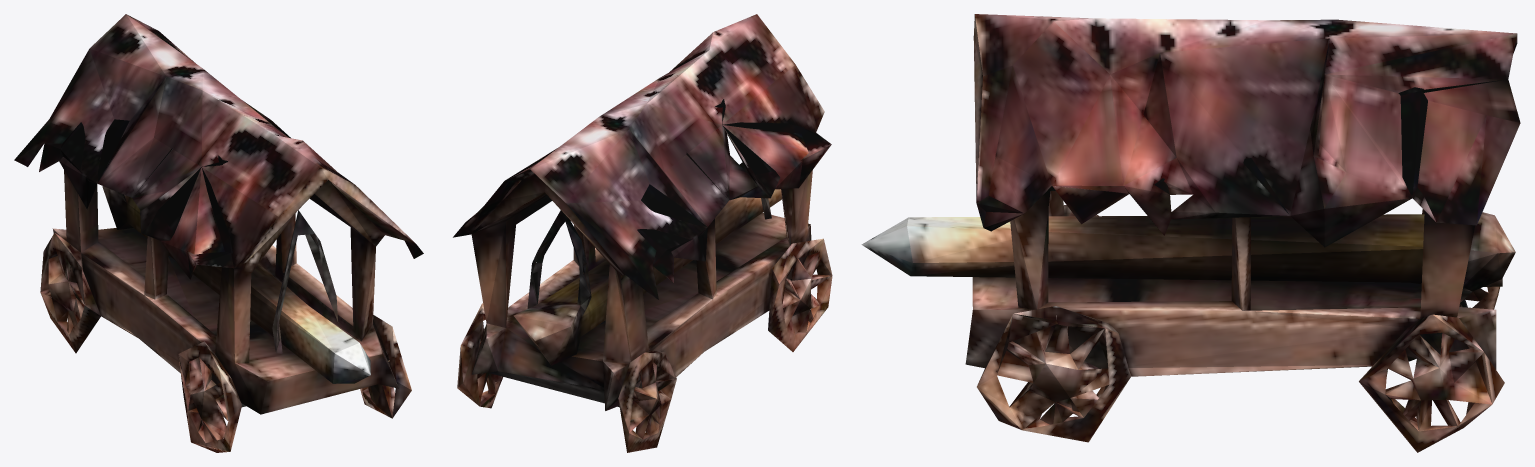
File: ga3_ram_lod.glb
The picture shows the model from 3 angles, left to right: view 1: azimuth 30°, elevation 25°; view 2: azimuth 150°, elevation 25°; view 3: azimuth 270°, elevation 25°; orthographic projection. The views are drawn at different scales.
Parts seen in each view (by area): view 1: Shed, Beam, Wheel_2, Wheel_0, Wheel_3; view 2: Shed, Beam, Wheel_2, Wheel_0, Wheel_1; view 3: Shed, Beam, Wheel_3, Wheel_1.
Boxes of the visible parts, x1,y1,x2,y2 form: Shed: (14, 14, 423, 414); Beam: (102, 186, 370, 383); Wheel_2: (178, 341, 260, 452); Wheel_0: (40, 229, 100, 353); Wheel_3: (360, 315, 411, 418); Shed: (453, 14, 831, 410); Beam: (513, 189, 782, 340); Wheel_2: (768, 232, 832, 351); Wheel_0: (605, 350, 676, 452); Wheel_1: (457, 303, 502, 408); Shed: (862, 14, 1520, 376); Beam: (862, 212, 1515, 262); Wheel_3: (966, 306, 1130, 442); Wheel_1: (1359, 314, 1504, 452).
Bounding box in the file's own units: 3.93 × 5.12 × 8.04.
1 material, 1 textured.
